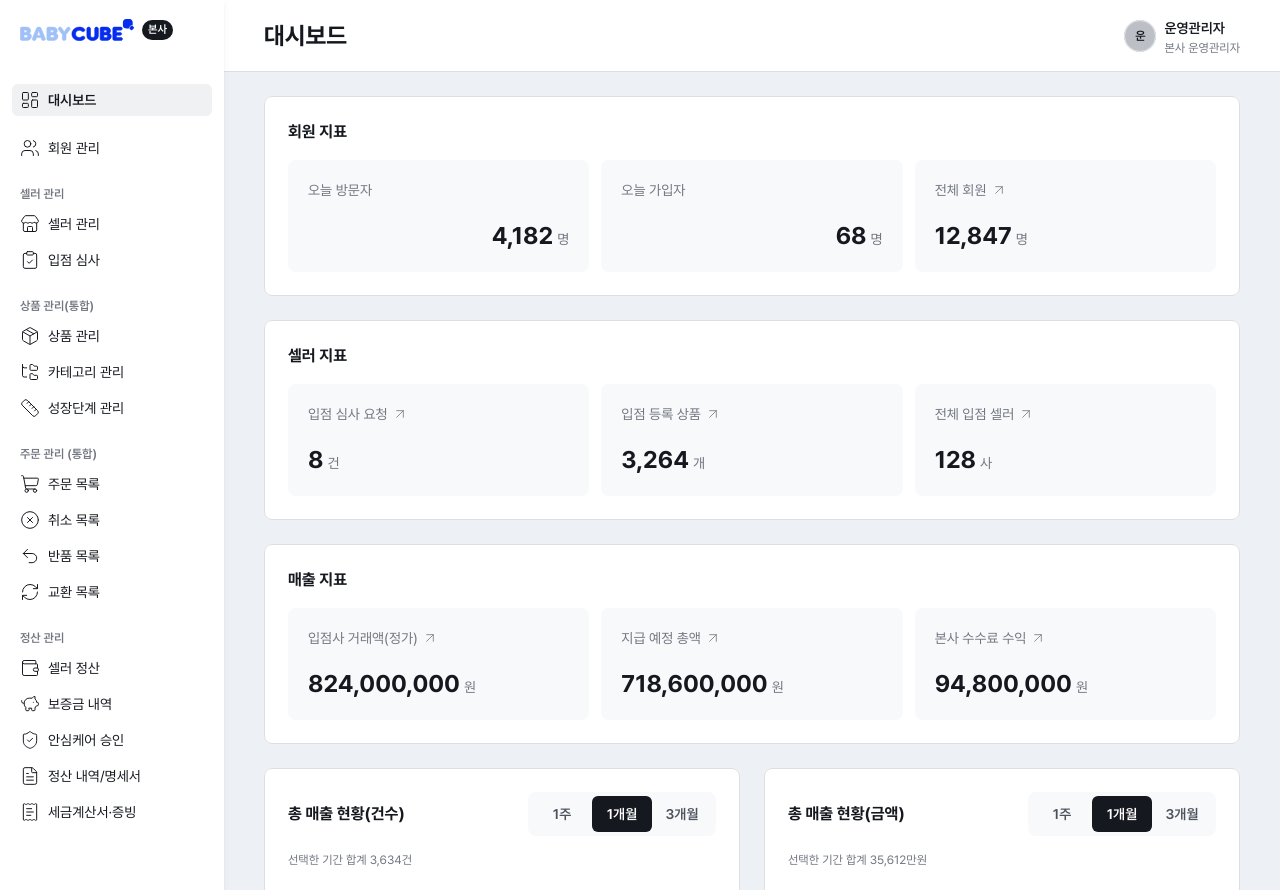
Scenario: BabycubeDashboardPage (S01 대시보드) › 총 매출 현황 차트 › 금액 차트의 기간을 바꾸면 그 차트의 합계만 바뀐다
Click the radio button labelled "3개월" in the row of "총 매출 현황(금액)": point(1182, 814) [1152,796,1212,832]
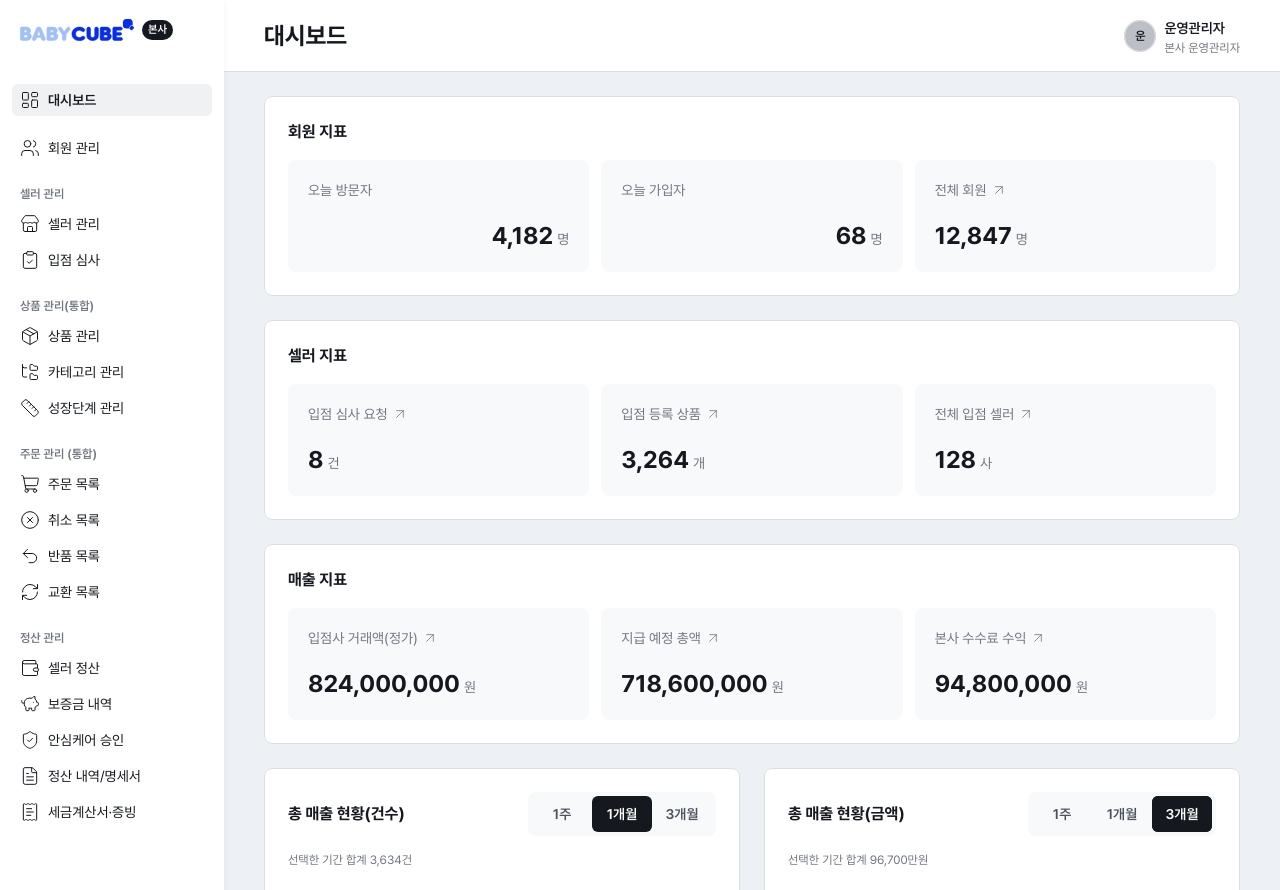
expect the text "선택한 기간 합계 3,634건" is shown: met, box [288,853,412,867]
expect the text "선택한 기간 합계 96,700만원" is shown: met, box [788,853,928,867]
